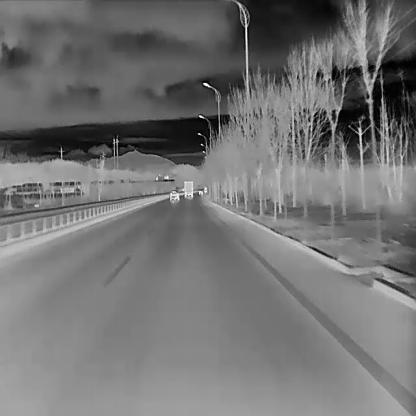car: (169, 188, 179, 200), (198, 189, 204, 194)
truck: (183, 180, 194, 198)
